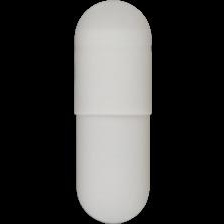68788-8915: (0, 0, 224, 224)
